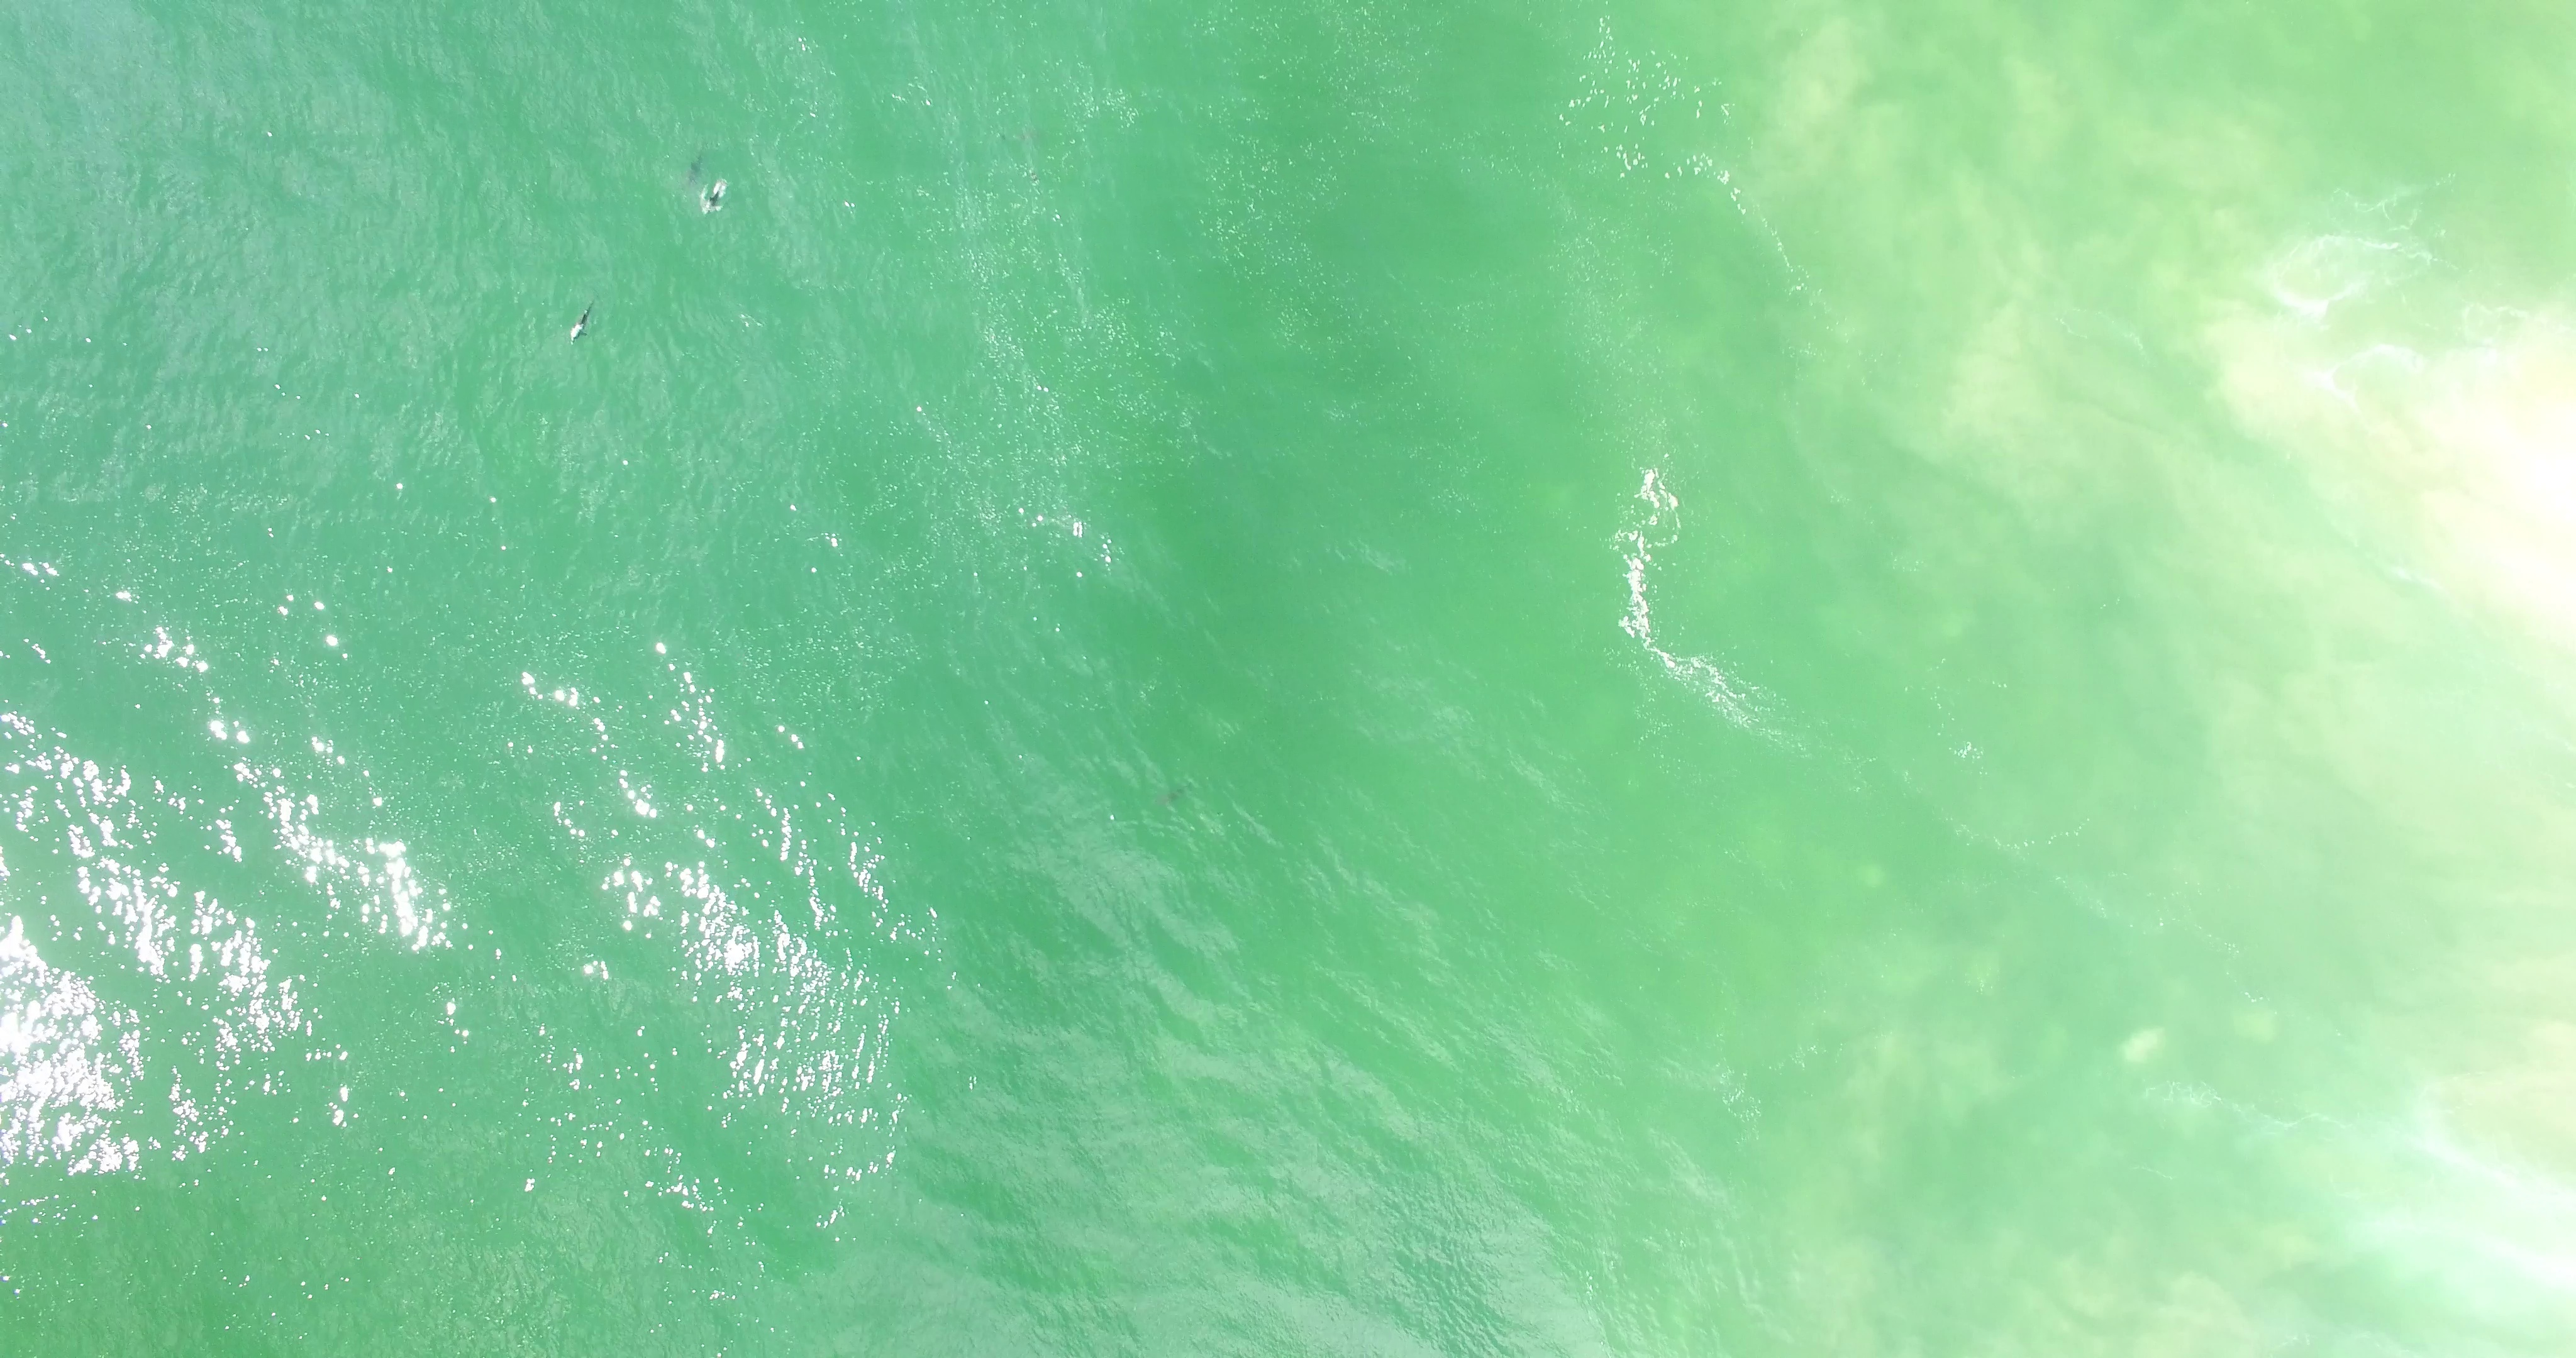dolphin: (678, 140, 709, 193), (567, 298, 598, 346), (1157, 782, 1196, 808), (702, 179, 727, 215)
